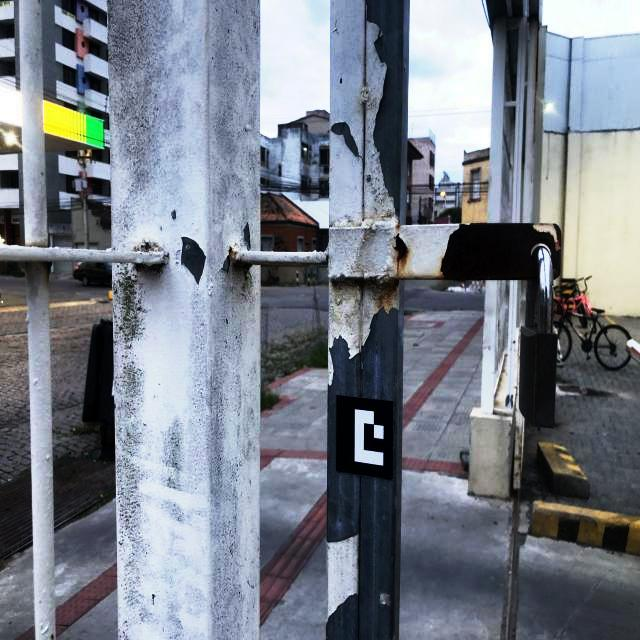Corrosion: (440, 223, 561, 280), (514, 422, 523, 479), (392, 233, 408, 265), (379, 279, 402, 300), (41, 261, 53, 281), (134, 240, 150, 251), (228, 246, 234, 259), (25, 244, 48, 247), (355, 279, 364, 286), (153, 241, 158, 250), (331, 281, 338, 287), (396, 223, 401, 230), (326, 254, 329, 264), (339, 78, 343, 85), (240, 257, 243, 263), (535, 322, 537, 328), (51, 634, 54, 638)
